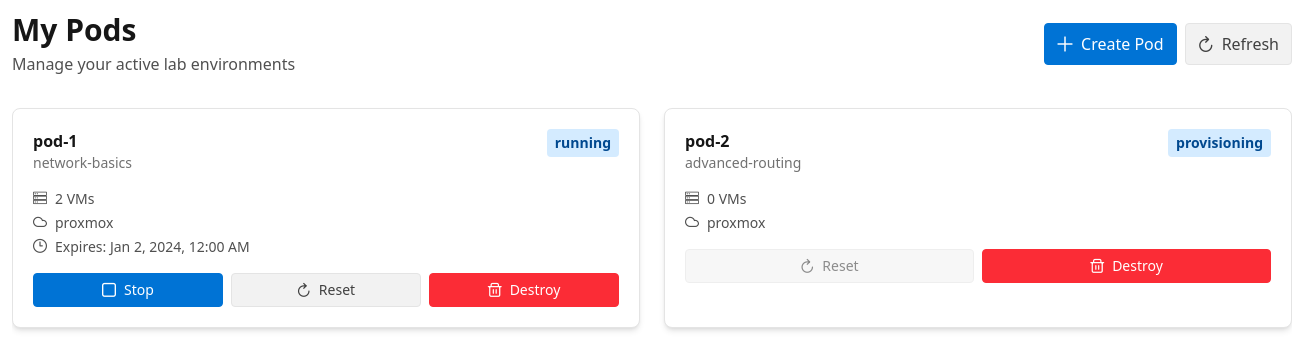
Test: PodsView › pod actions › should remove pod from list after destroy
The image size is (1304, 349).
Click the 2nd button "Destroy". click: (524, 290)
box: [429,273,619,307]
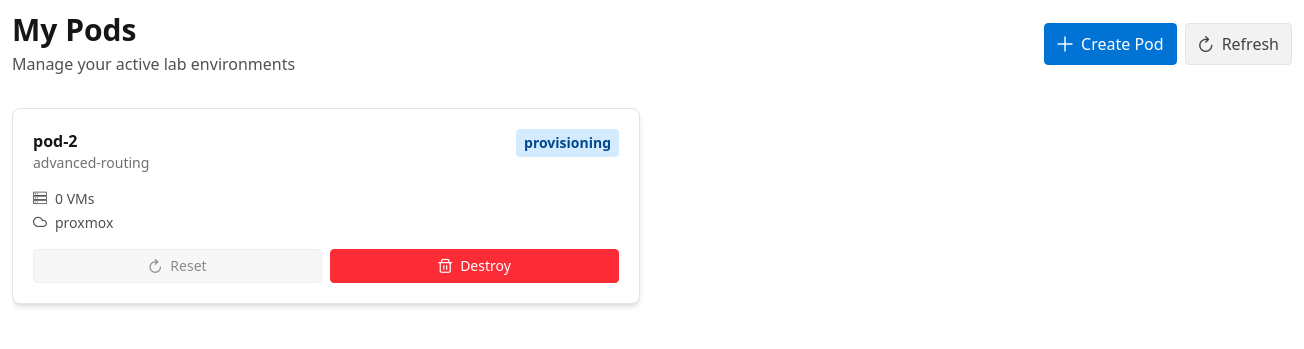
Result: the text "pod-1" is gone
